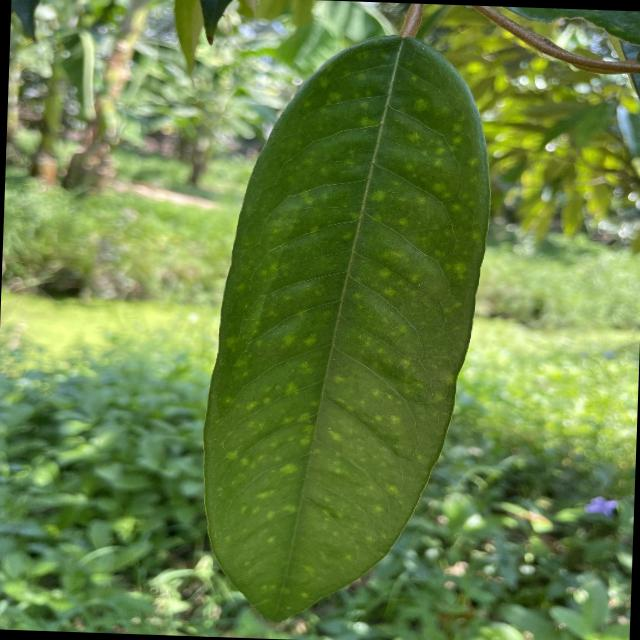Leaf Spot: (186, 23, 504, 631)
